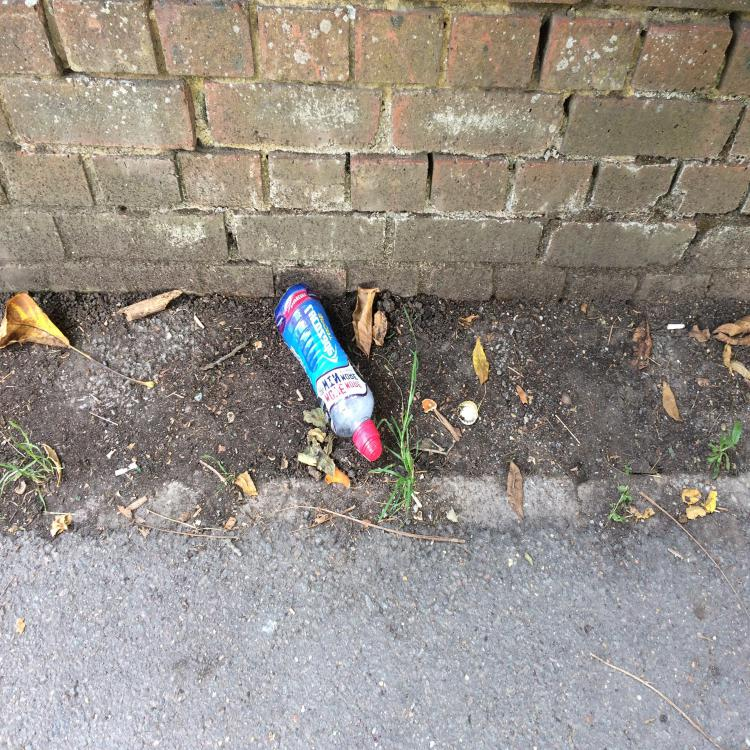Cigarette: (667, 324, 685, 330)
Clear plastic bottle: (274, 283, 382, 462)
Metal bottle cap: (457, 400, 478, 425)
